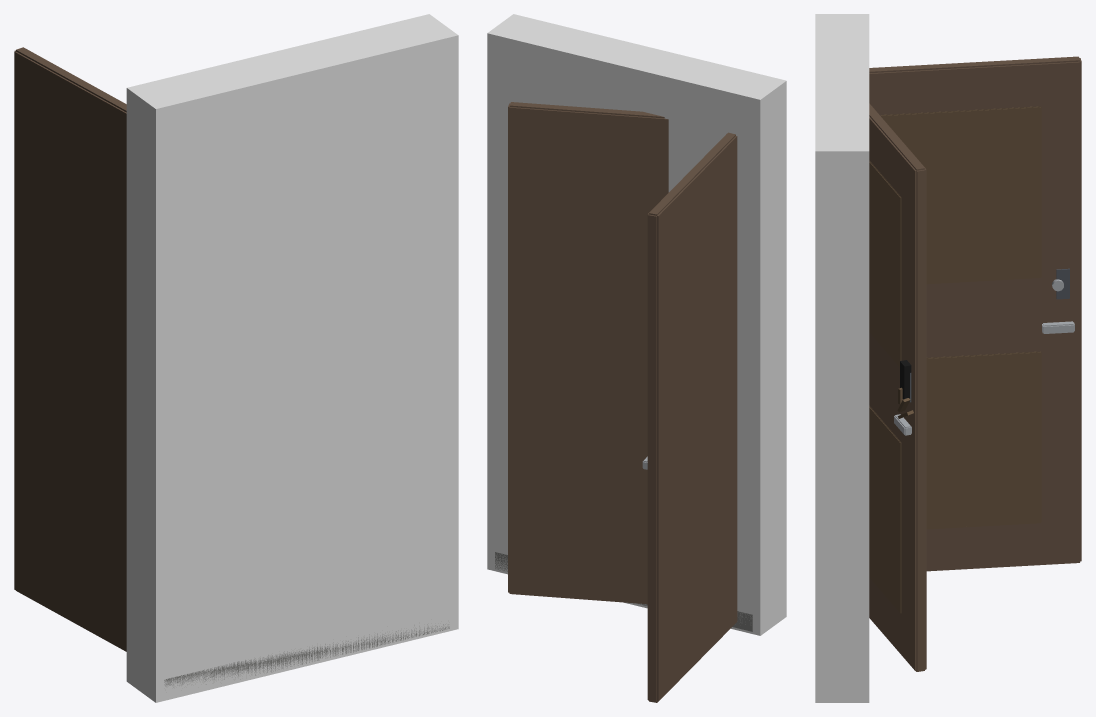
Rendered from door_lockable.glb.
3 views of the same model, side by side, from view 1: azimuth 30°, elevation 25°; view 2: azimuth 150°, elevation 25°; view 3: azimuth 270°, elevation 25° (orthographic). The views are drawn at different scales.
Visible parts, largest first — view 1: door_frame-col, door_open_mesh, frame_mesh; view 2: door_forced_mesh, door_frame-col, door_open_mesh, frame_mesh; view 3: door_open_mesh, door_frame-col, door_forced_mesh.
Boxes of the visible parts, box(x1,y1,x2,y2) form: door_frame-col: box(126, 14, 458, 702); door_open_mesh: box(14, 47, 126, 651); frame_mesh: box(164, 624, 449, 687); door_forced_mesh: box(508, 102, 668, 604); door_frame-col: box(487, 14, 786, 635); door_open_mesh: box(642, 132, 737, 702); frame_mesh: box(495, 552, 752, 631); door_open_mesh: box(869, 56, 1081, 571); door_frame-col: box(815, 14, 869, 702); door_forced_mesh: box(869, 103, 926, 671).
Size of the model in its own units: 1.2 by 2.25 by 0.9845.
